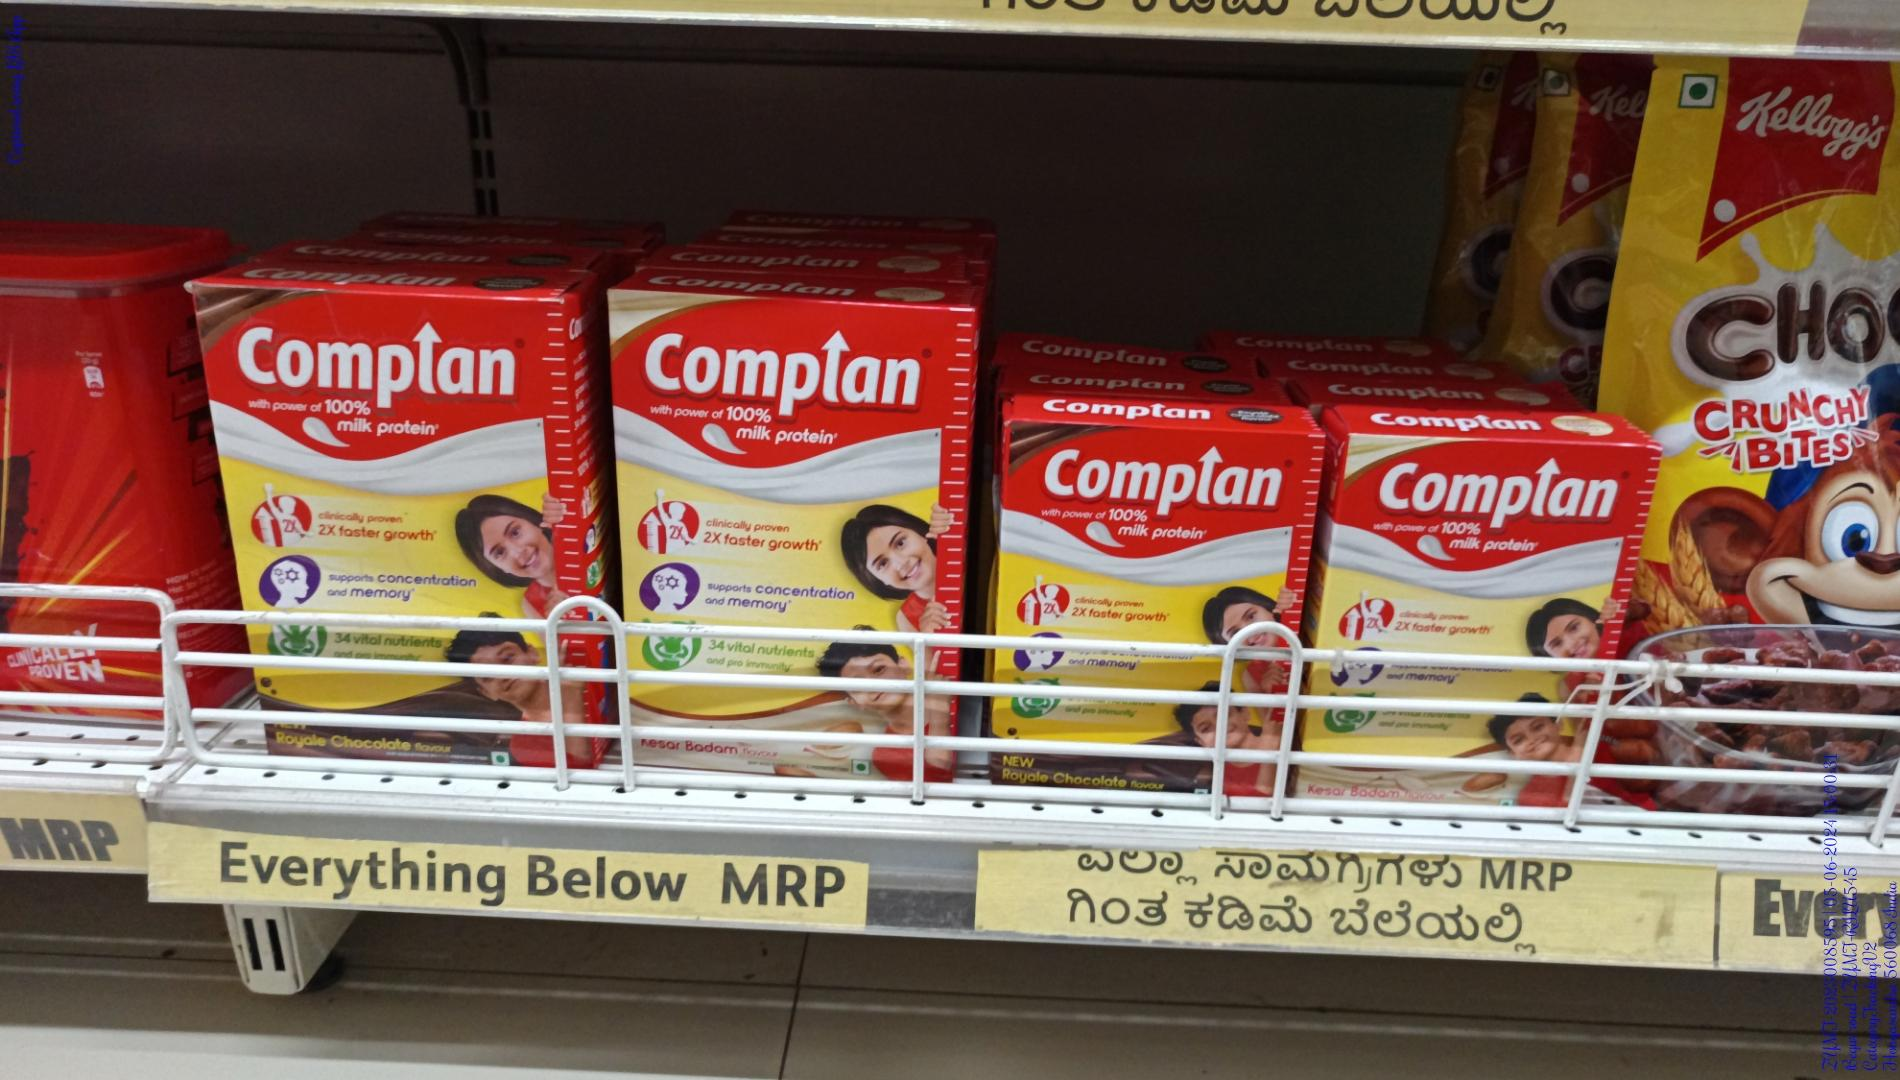COMPLAN_CHOCOLATE_200_GMS_PACK: (1001, 413, 1300, 806)
COMPLAN_CHOCOLATE_500_GMS_PACK: (218, 283, 582, 759)
COMPLAN_KESAR_BADAM_200_GMS_PACK: (1309, 437, 1621, 813)
COMPLAN_KESAR_BADAM_500_GMS_PACK: (615, 286, 958, 777)
